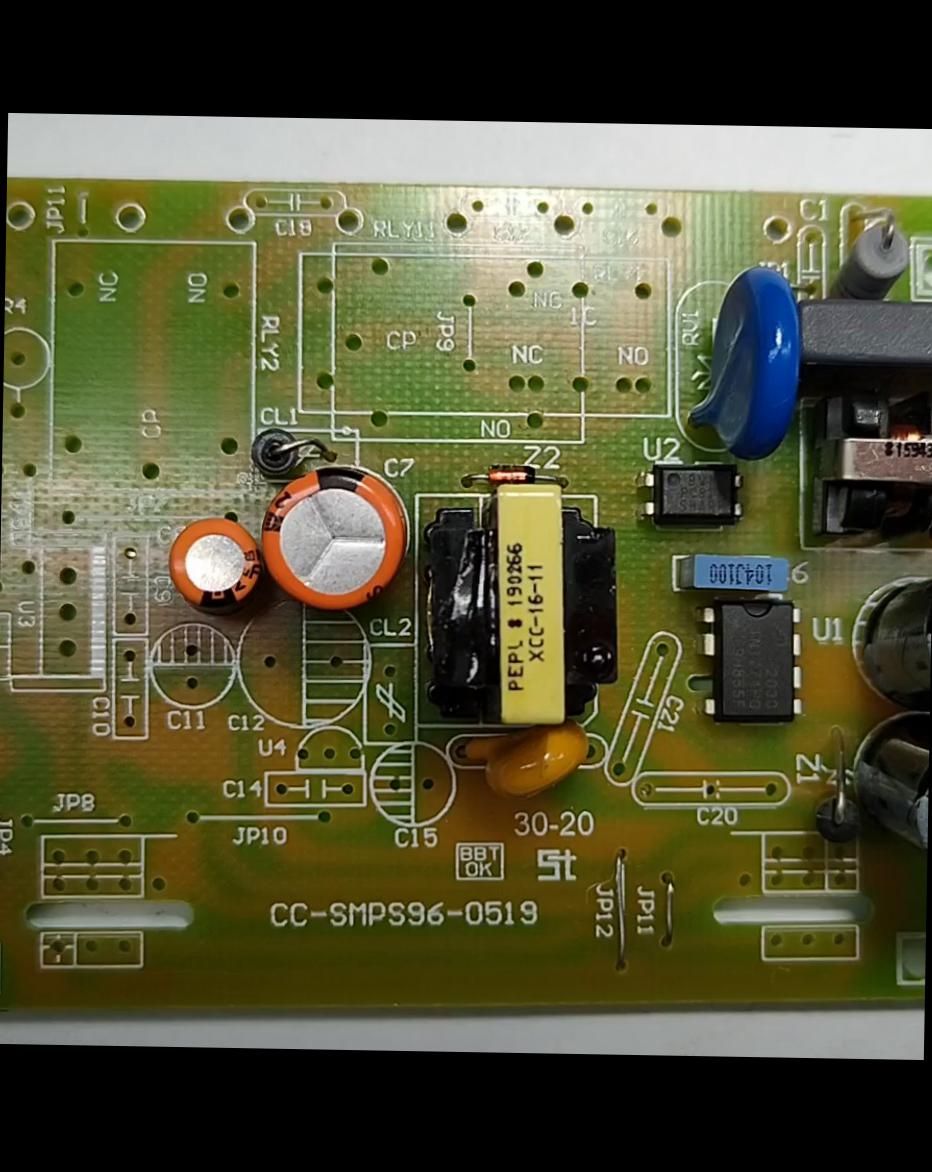Cap1: (260, 450, 420, 616)
Cap2: (168, 512, 272, 610)
Cap3: (852, 556, 932, 713)
Cap4: (839, 714, 929, 885)
MOSFET: (690, 587, 803, 718)
Mov: (701, 261, 808, 465)
Resistor: (824, 212, 922, 300)
Transformer: (412, 486, 624, 742), (804, 375, 931, 554)
